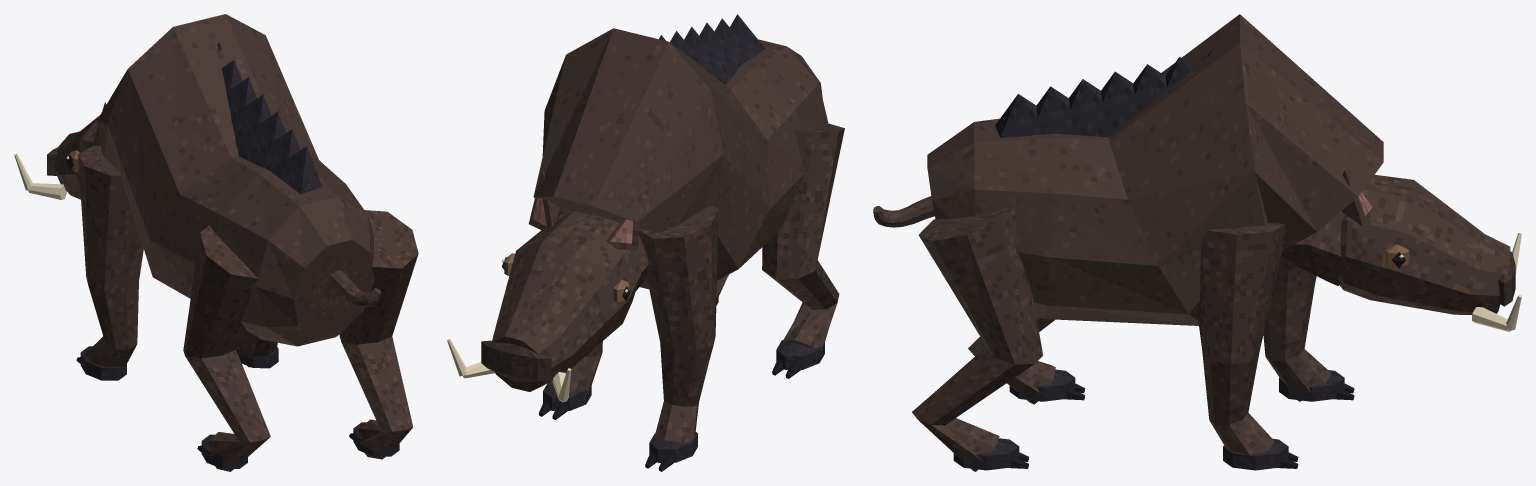
Rendered from mon_boar_wild.glb.
3 views of the same model, side by side, from view 1: azimuth 30°, elevation 25°; view 2: azimuth 150°, elevation 25°; view 3: azimuth 270°, elevation 25° (orthographic). The views are drawn at different scales.
Visible parts, largest first — view 1: closed_body; view 2: closed_body; view 3: closed_body.
Part boxes in pixels (left/top/right/bottom): closed_body: left=14, top=14, right=418, bottom=471; closed_body: left=447, top=14, right=844, bottom=471; closed_body: left=873, top=14, right=1521, bottom=471.
Bounding box in the file's own units: 0.5705 × 1.11 × 1.59.
1 material, 1 textured.
